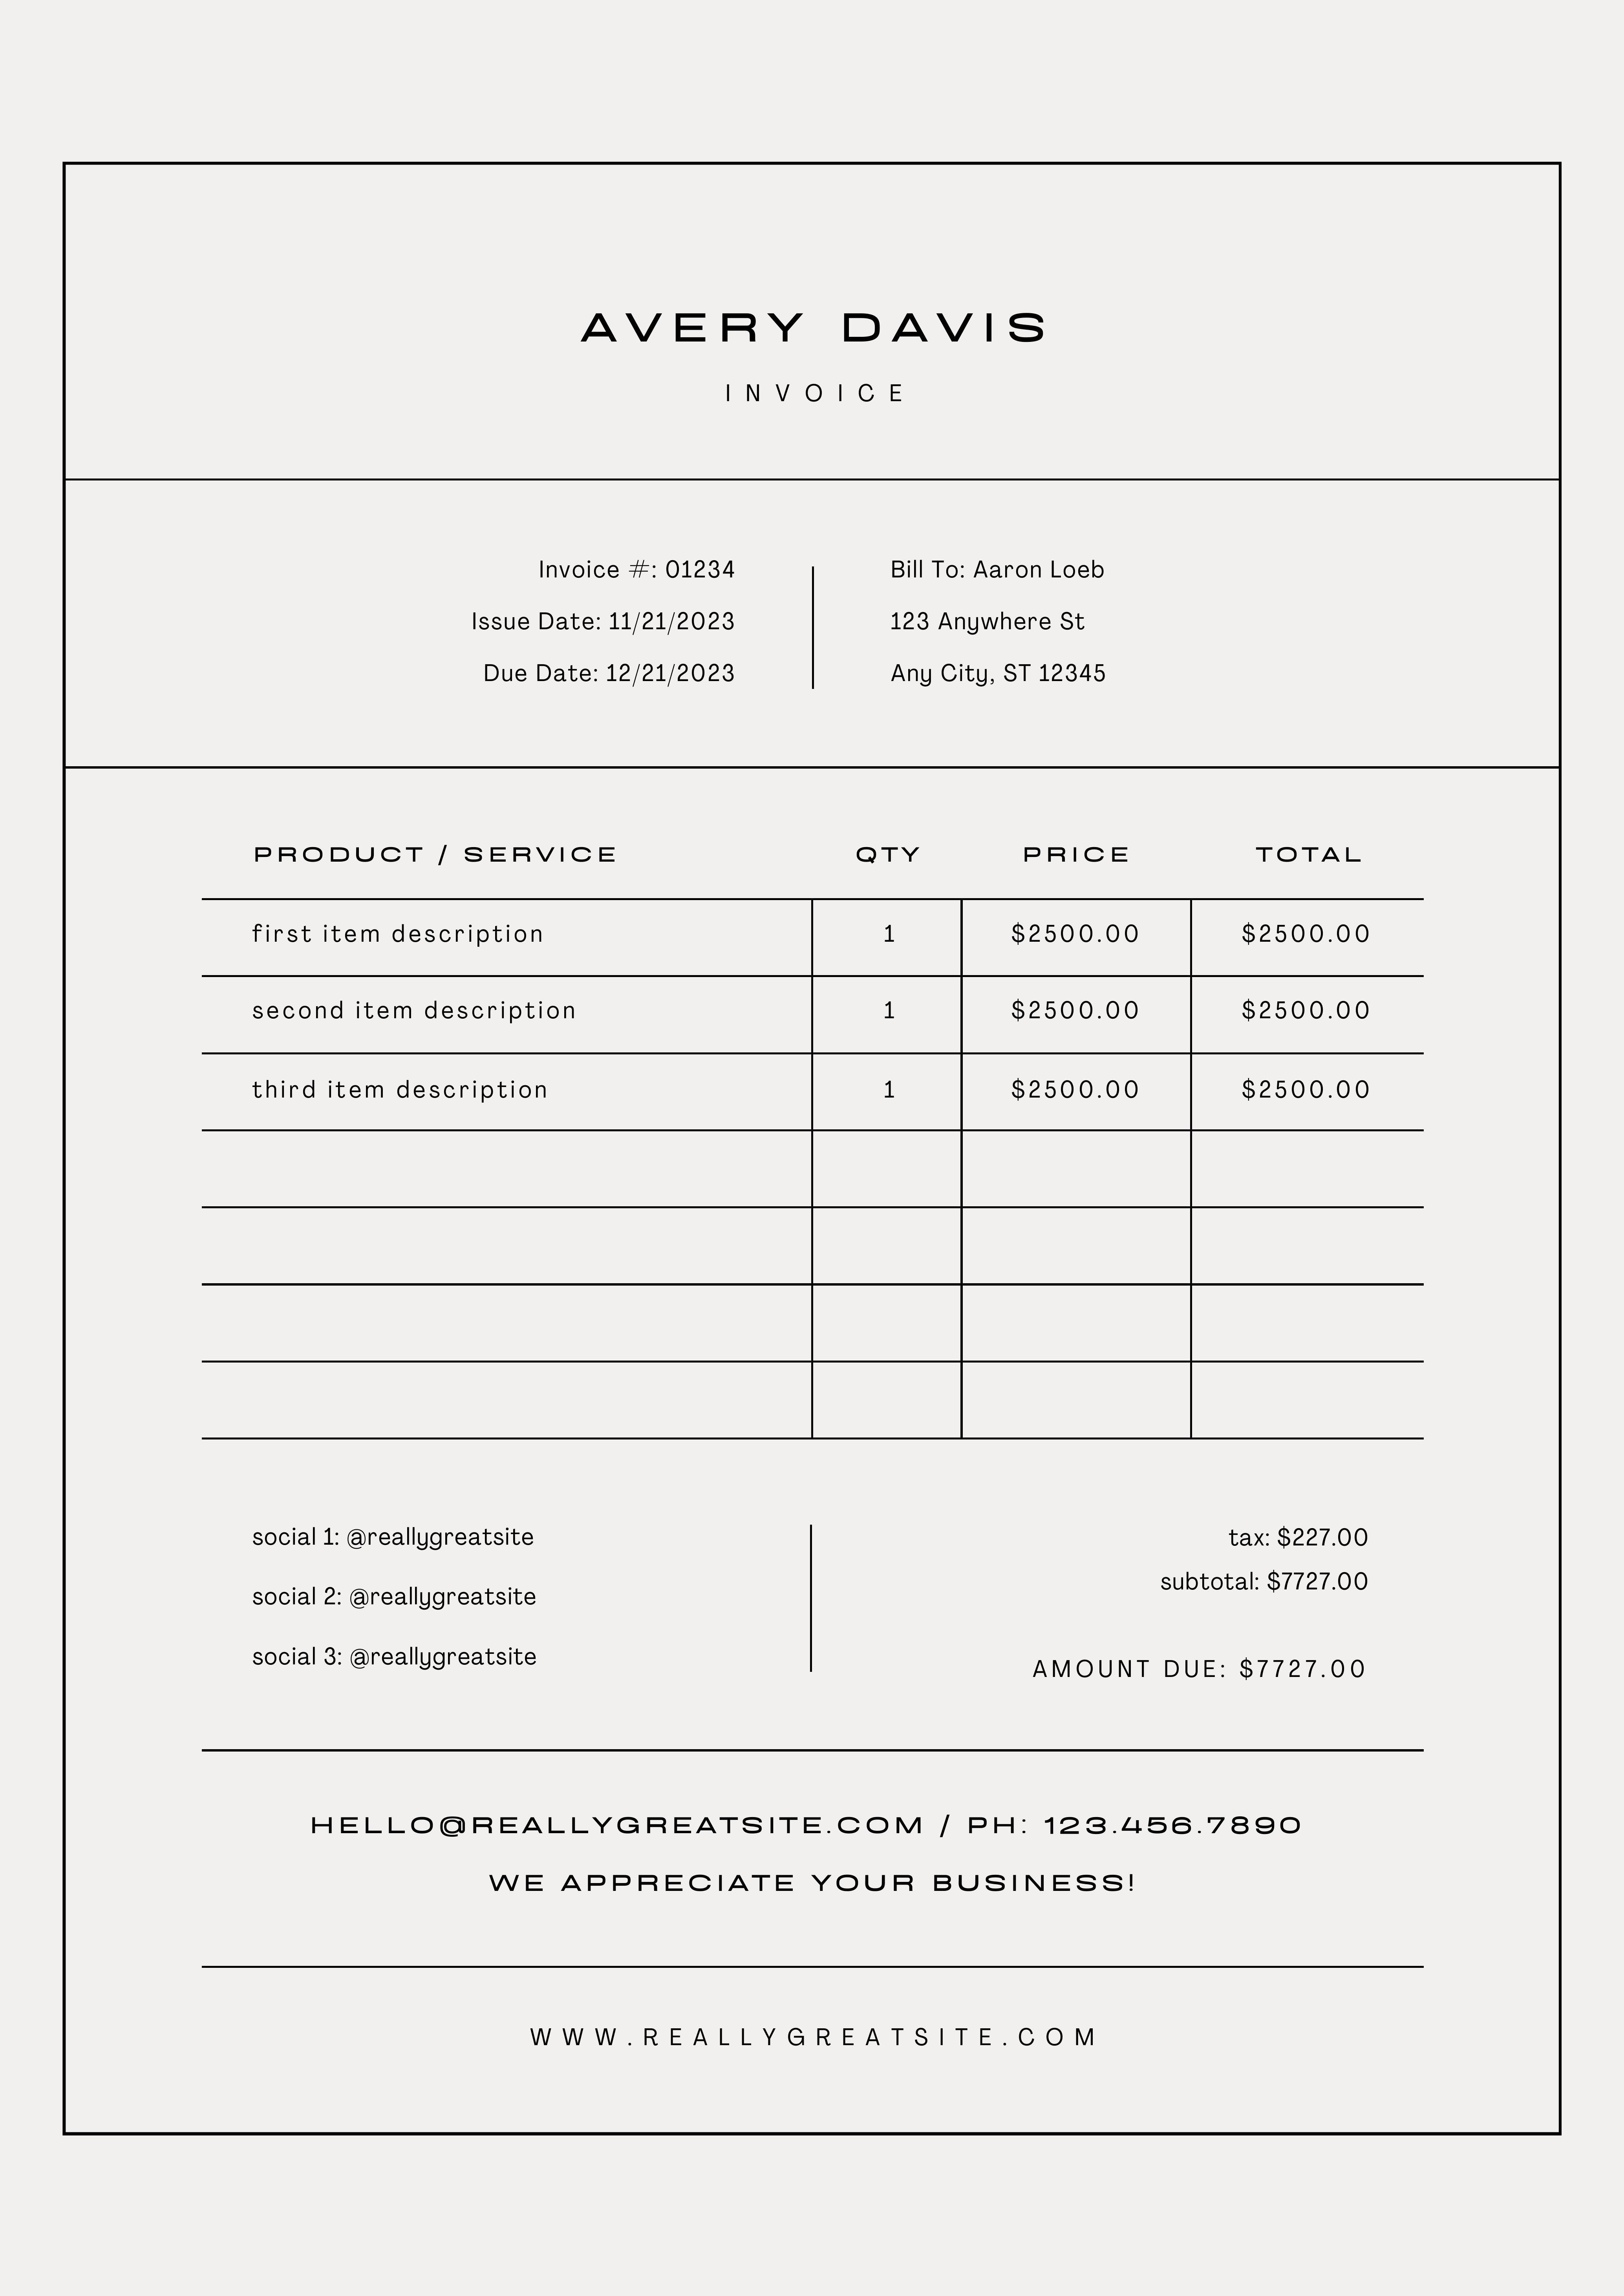ROI: (204, 833, 1429, 1439), (1018, 1504, 1385, 1693), (868, 541, 1141, 704), (471, 553, 777, 692), (573, 283, 1058, 362)
